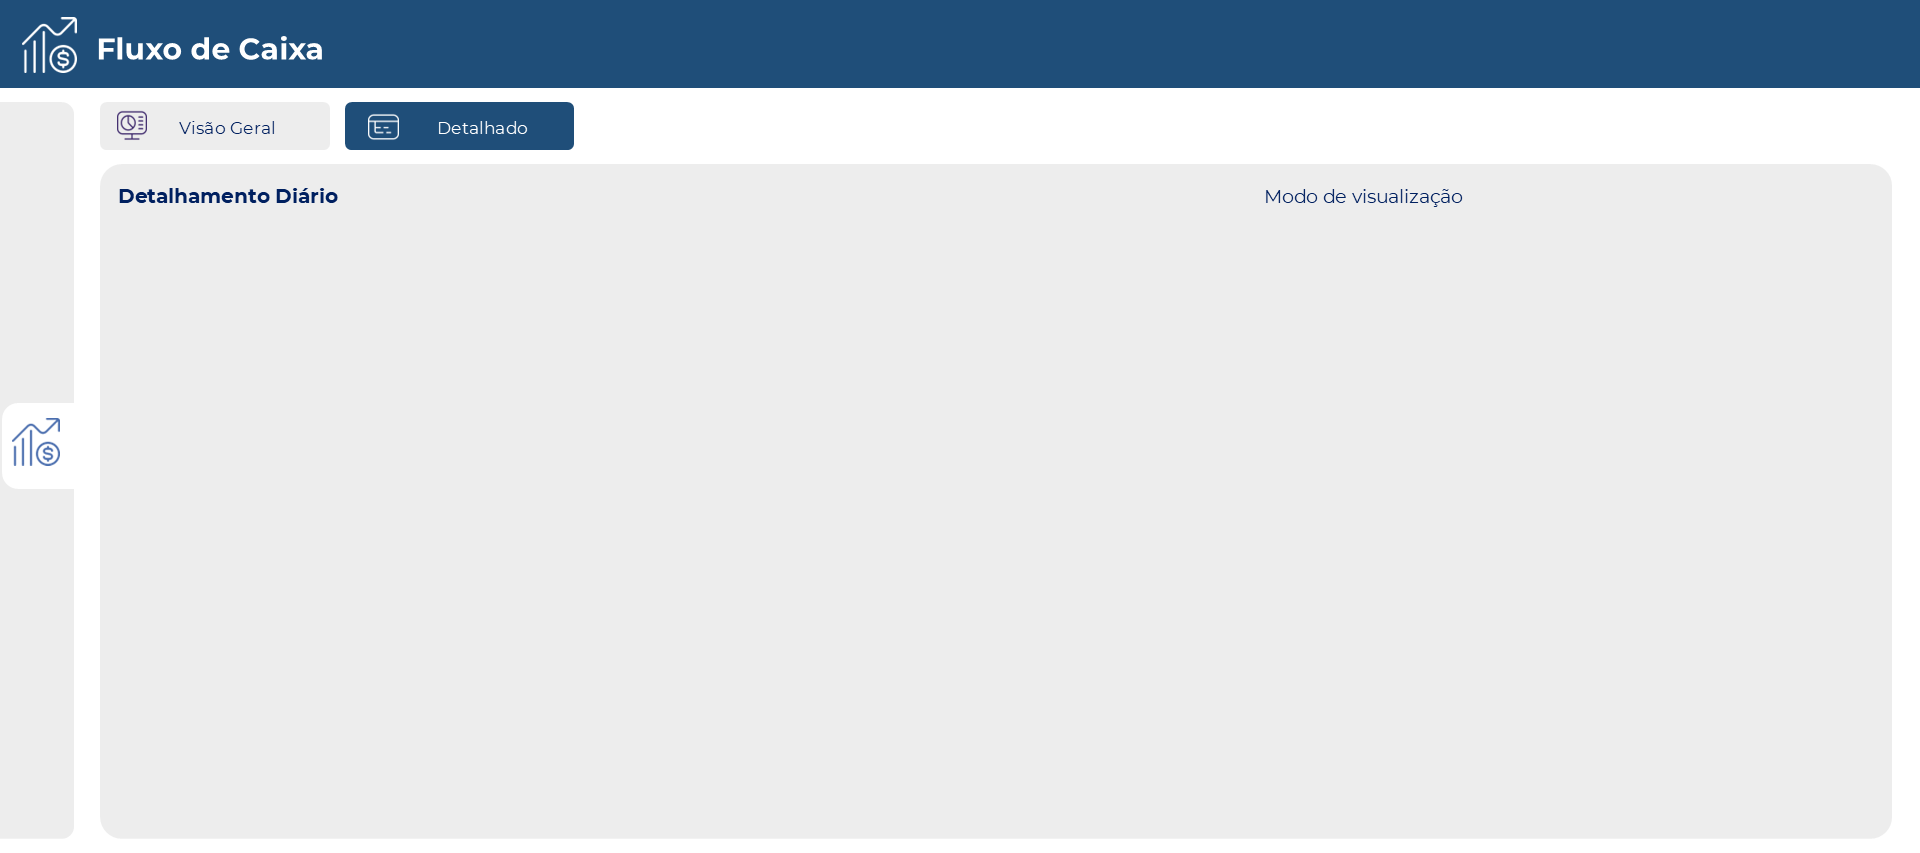

The page's visual inventory and layout, read from the dashboard file:
{"tool":"powerbi","page":{"name":"Fluxo de Caixa-Detalhe","canvas":[1366,610],"ordinal":1},"visuals":[{"type":"textbox","box":[411.5,75.4,71.7,33.1],"z":0,"group":"g1"},{"type":"card","fields":{"Values":["Medidas Fluxo de Caixa.atualização fluxo de caixa"]},"box":[1144.2,9.2,169.4,47.9],"z":1000},{"type":"pivotTable","fields":{"Columns":["Fluxo de Caixa - Origens.origem"],"Rows":["dimCalendario.Date","dimCalendario.Dia da Semana"],"Values":["Medidas Fluxo de Caixa.Saldo Tabela Acumulado"]},"box":[75.6,160,1265.6,434.4],"z":2000},{"type":"actionButton","box":[66.8,71.5,170.8,38.2],"z":3000},{"type":"actionButton","box":[242.3,71.5,169.8,38.2],"z":4000},{"type":"slicer","title":"Data","fields":{"Values":["dimCalendario.Date"]},"box":[1116.5,66.1,249.5,48.4],"z":5000},{"type":"textbox","box":[1073.1,77.3,54.4,32.4],"z":6000},{"type":"textbox","box":[1090.3,18.1,114.5,32.4],"z":7000},{"type":"actionButton","box":[0,295.5,50.6,46.9],"z":8000},{"type":"textbox","box":[640.8,76.2,99.2,33.1],"z":9000},{"type":"advancedSlicerVisual","fields":{"Values":["Fluxo de Caixa - Bases.base"]},"box":[447.4,71.8,199.7,38.7],"z":10000},{"type":"advancedSlicerVisual","fields":{"Values":["Fluxo de Caixa.tipo_cartao"]},"box":[718.9,71.8,171.2,38.7],"z":11000},{"type":"group","id":"g1","title":"Grupo 4","box":[411.5,75.4,71.7,33.1],"z":12000},{"type":"advancedSlicerVisual","fields":{"Values":["Param_Tipo_Origem.Param_Tipo_Origem"]},"box":[1042,121.5,290.9,38.7],"z":13000}]}

Visuals, with their boxes on the page's 1366x610 design canvas (x1, y1, x2, y2). These are canvas units, not pixel positions in the 1920x853 screenshot, which may show the page scaled, cropped or inside an application window:
textbox: detection(412, 75, 483, 108)
card - Medidas Fluxo de Caixa.atualização fluxo de caixa: detection(1144, 9, 1314, 57)
pivotTable - Fluxo de Caixa - Origens.origem x dimCalendario.Date: detection(76, 160, 1341, 594)
actionButton: detection(67, 72, 238, 110)
actionButton: detection(242, 72, 412, 110)
"Data" slicer: detection(1116, 66, 1366, 114)
textbox: detection(1073, 77, 1128, 110)
textbox: detection(1090, 18, 1205, 50)
actionButton: detection(0, 296, 51, 342)
textbox: detection(641, 76, 740, 109)
advancedSlicerVisual - Fluxo de Caixa - Bases.base: detection(447, 72, 647, 110)
advancedSlicerVisual - Fluxo de Caixa.tipo_cartao: detection(719, 72, 890, 110)
"Grupo 4" group: detection(412, 75, 483, 108)
advancedSlicerVisual - Param_Tipo_Origem.Param_Tipo_Origem: detection(1042, 122, 1333, 160)
